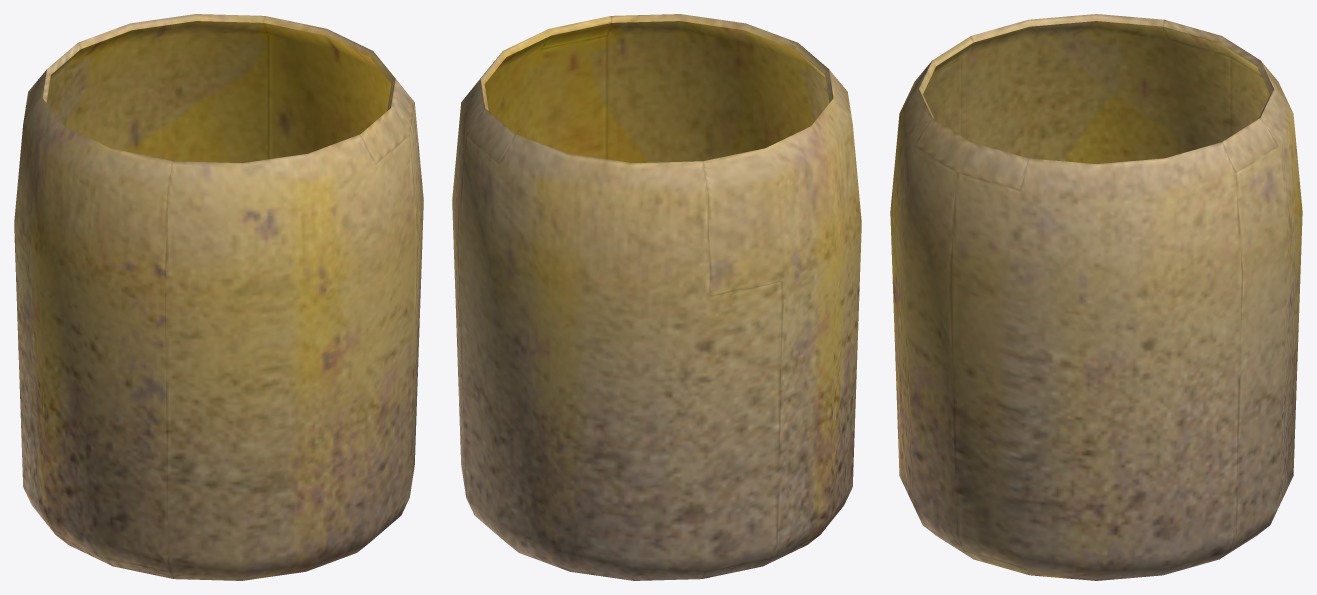
3 views of the same model, side by side, from view 1: azimuth 30°, elevation 25°; view 2: azimuth 150°, elevation 25°; view 3: azimuth 270°, elevation 25° (orthographic).
Visible parts, largest first — view 1: Object_74; view 2: Object_74; view 3: Object_74.
Boxes of the visible parts, bbox=[...] form: Object_74: bbox=[14, 14, 423, 580]; Object_74: bbox=[452, 14, 861, 580]; Object_74: bbox=[890, 14, 1302, 580].
Bounding box in the file's own units: 0.7731 × 0.866 × 0.7731.
1 material, 1 textured.
